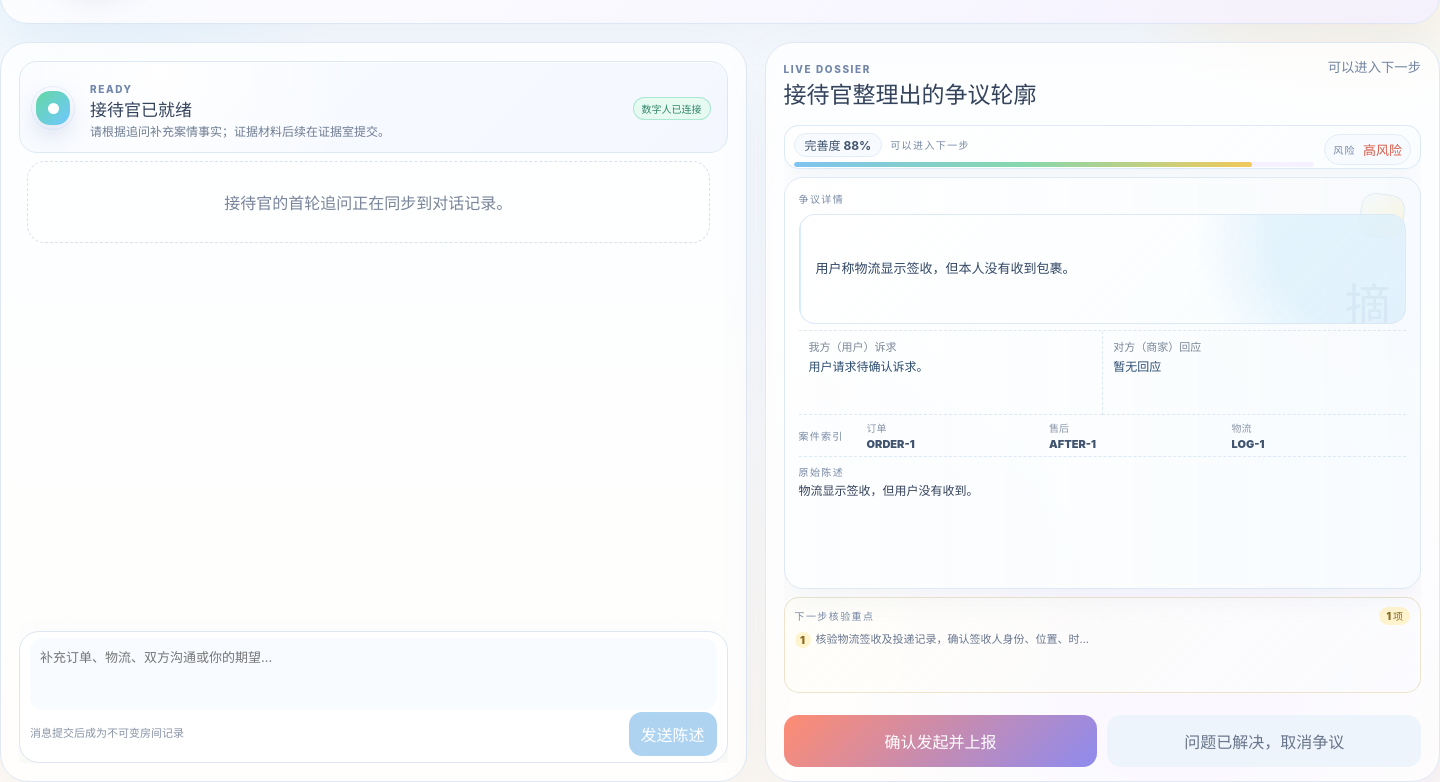
IntakeRoomView › keeps the initiator in intake after submitting its statement
(page scrolled)
Click the button "确认发起并上报" at (940, 741), box [784,715,1097,767]
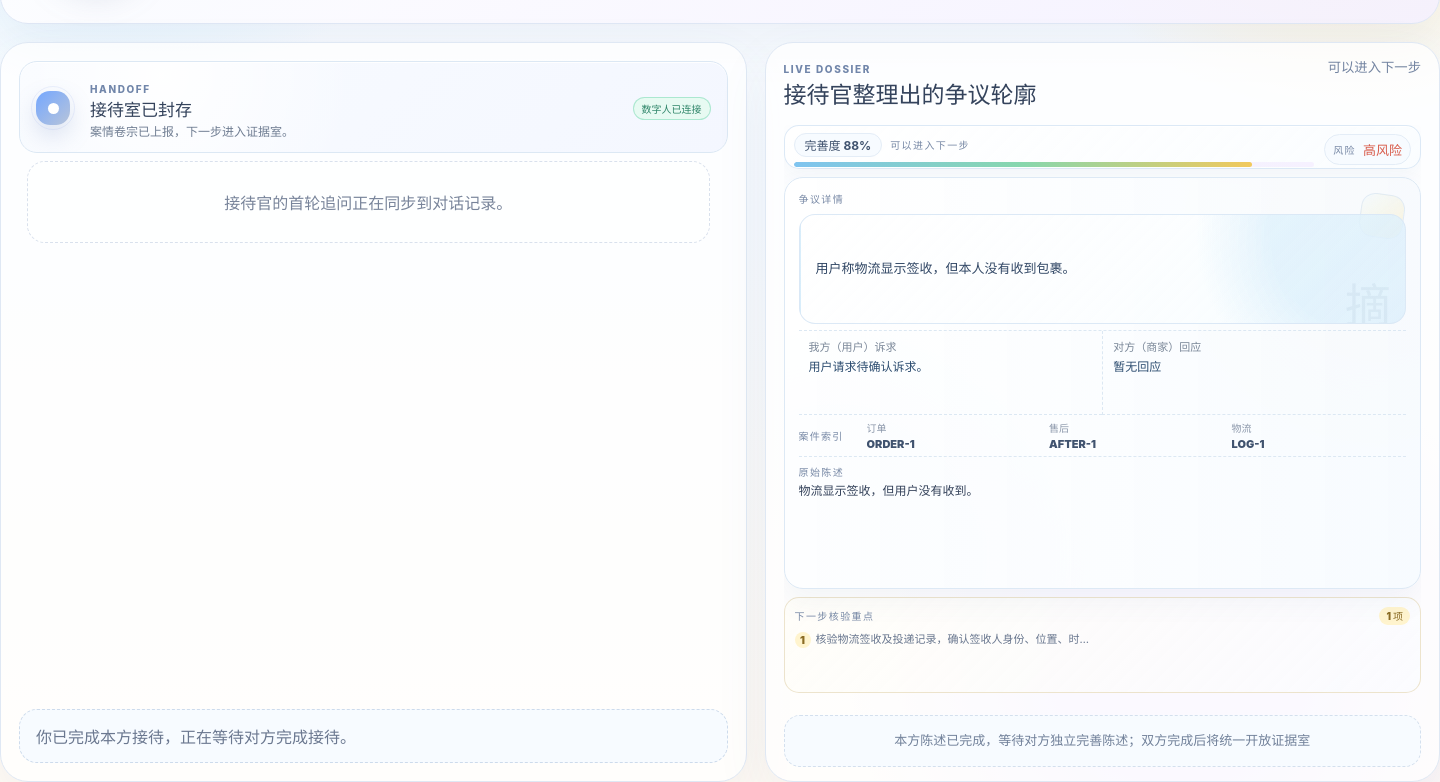
Check: the text "本方陈述已完成，等待对方独立完善陈述；双方完成后将统一开放证据室" is shown, box [784,715,1421,767]
